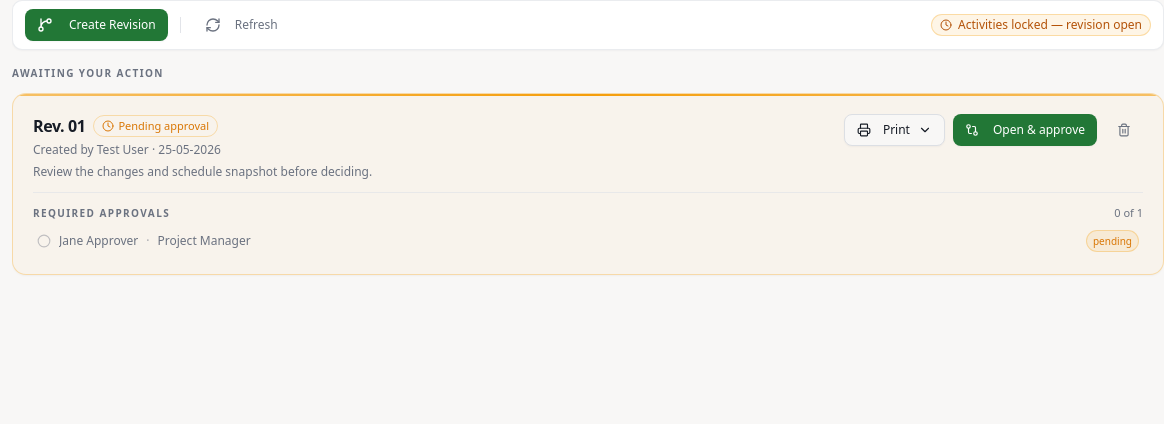
Test: Print on the Approvals tab › offers the print/export menu on each revision, outside the signing flow
Click the button with test id "revision-print": click(894, 130) top-left (844, 114), bottom-right (945, 146)
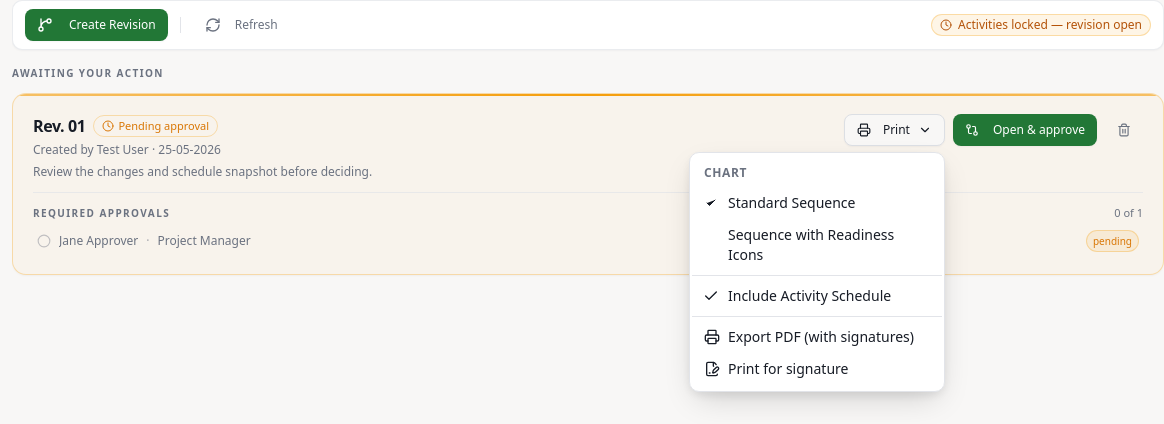
Expected: the menu item "Export PDF (with signatures)" is shown, top-left (704, 327), bottom-right (914, 346)
Expected: the menu item "Print for signature" is shown, top-left (704, 359), bottom-right (848, 378)
